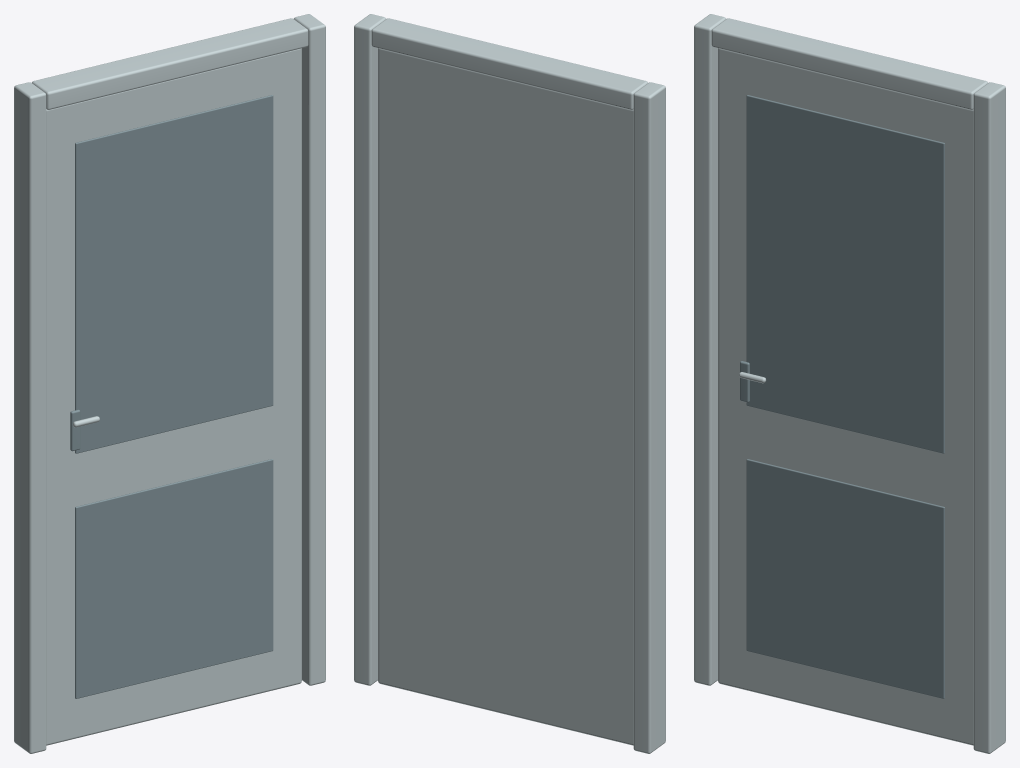
The model's file is door.glb.
The picture shows the model from 3 angles, left to right: view 1: azimuth 30°, elevation 25°; view 2: azimuth 150°, elevation 25°; view 3: azimuth 330°, elevation 25°; orthographic projection.
Visible parts, largest first — view 1: door_slab, recessed_panel_1.45, recessed_panel_0.45, frame_-1, frame_1, frame_header; view 2: door_slab, frame_-1, frame_1, frame_header; view 3: door_slab, recessed_panel_1.45, recessed_panel_0.45, frame_1, frame_-1, frame_header.
Part boxes in pixels (x1,y1,x2,y2): door_slab: [46, 48, 301, 745]; recessed_panel_1.45: [75, 95, 273, 453]; recessed_panel_0.45: [75, 459, 273, 698]; frame_-1: [14, 82, 46, 753]; frame_1: [294, 14, 325, 685]; frame_header: [32, 18, 308, 109]; door_slab: [378, 48, 633, 745]; frame_-1: [633, 82, 665, 753]; frame_1: [354, 14, 385, 685]; frame_header: [371, 18, 647, 109]; door_slab: [718, 48, 973, 745]; recessed_panel_1.45: [746, 95, 944, 453]; recessed_panel_0.45: [746, 459, 944, 698]; frame_1: [973, 82, 1005, 753]; frame_-1: [694, 14, 725, 685]; frame_header: [711, 18, 987, 109].
Bounding box in the file's own units: 1.02 × 2.16 × 0.1.
